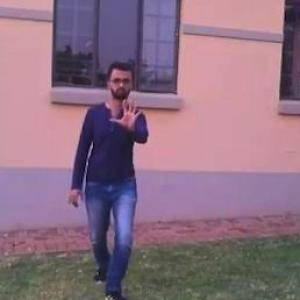follow_hand: (107, 92, 149, 134)
